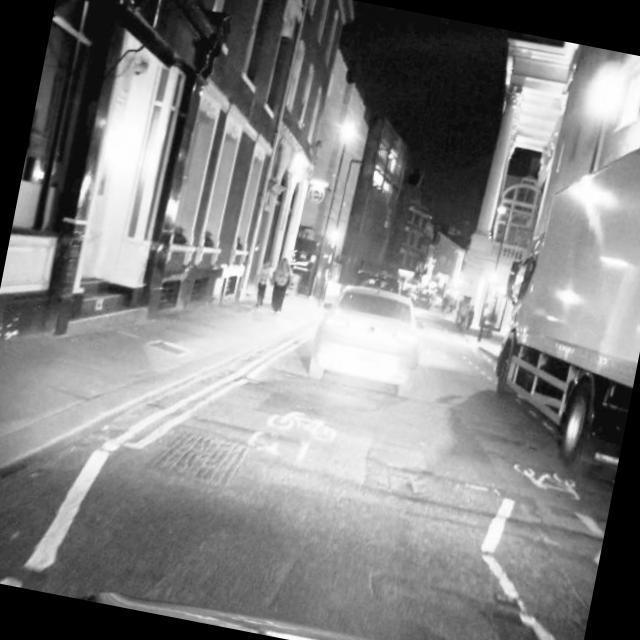Truck: (471, 87, 640, 488)
